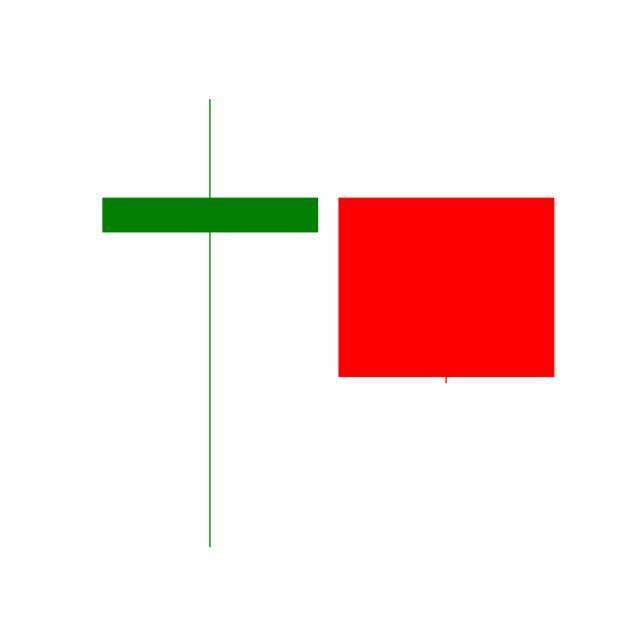Marubozu: (328, 196, 566, 387)
